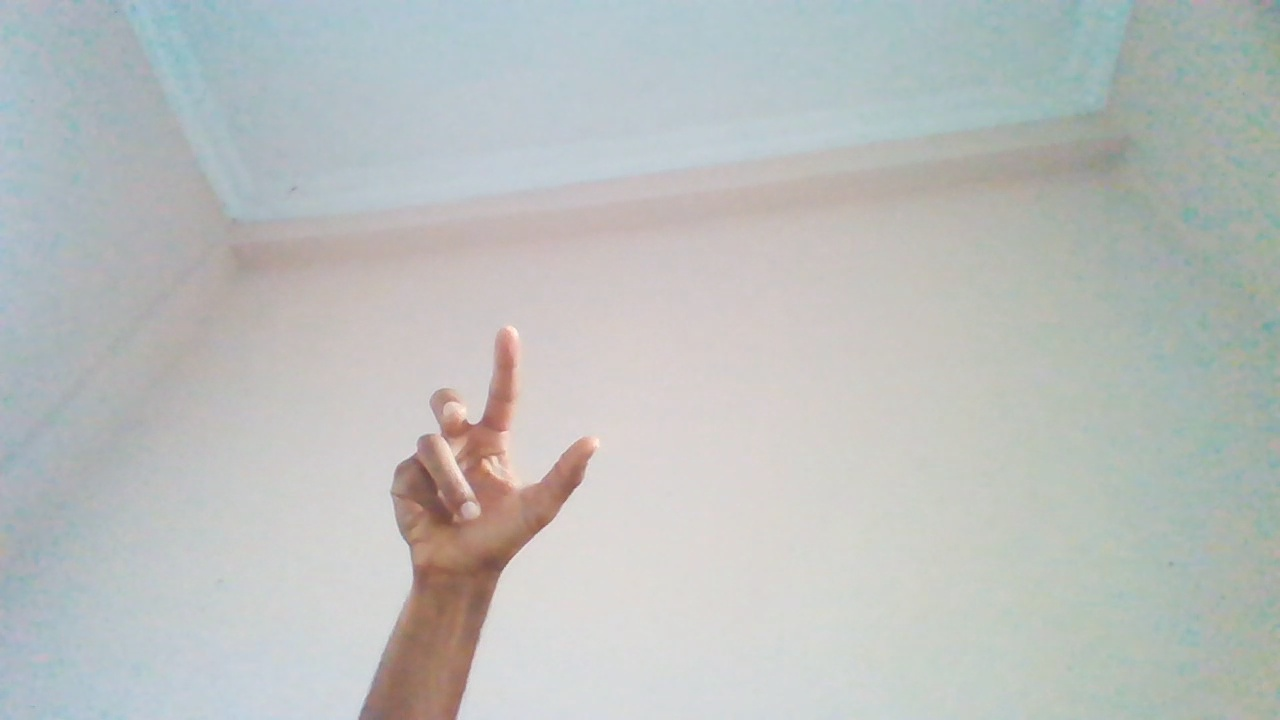hhe: (387, 325, 601, 668)
